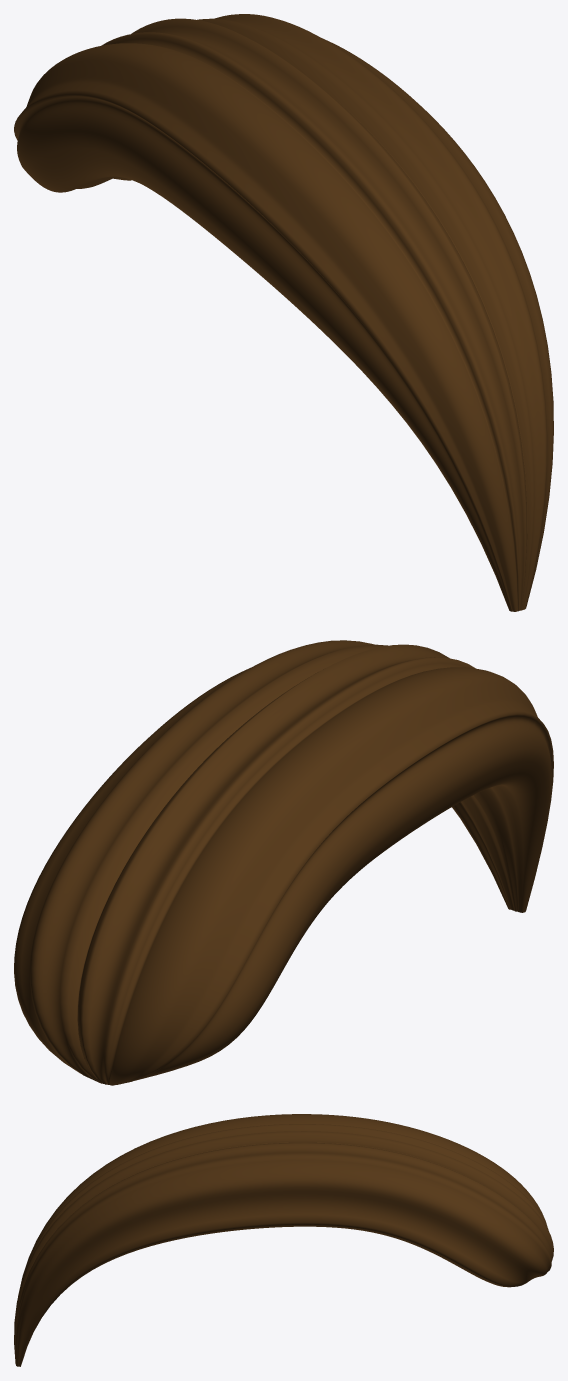
Rendered from Hair2 Ugly.fbx.
3 renders of one model, top to bottom at view 1: azimuth 30°, elevation 25°; view 2: azimuth 150°, elevation 25°; view 3: azimuth 270°, elevation 25°, orthographic. The views are drawn at different scales.
Visible parts, largest first — view 1: Type 2 Mesh; view 2: Type 2 Mesh; view 3: Type 2 Mesh.
Part boxes in pixels (box(x1,y1,x2,y2)): Type 2 Mesh: box(14, 14, 553, 611); Type 2 Mesh: box(14, 640, 553, 1085); Type 2 Mesh: box(14, 1114, 553, 1366).
Size of the model in its own units: 254 by 122 by 81.2.
